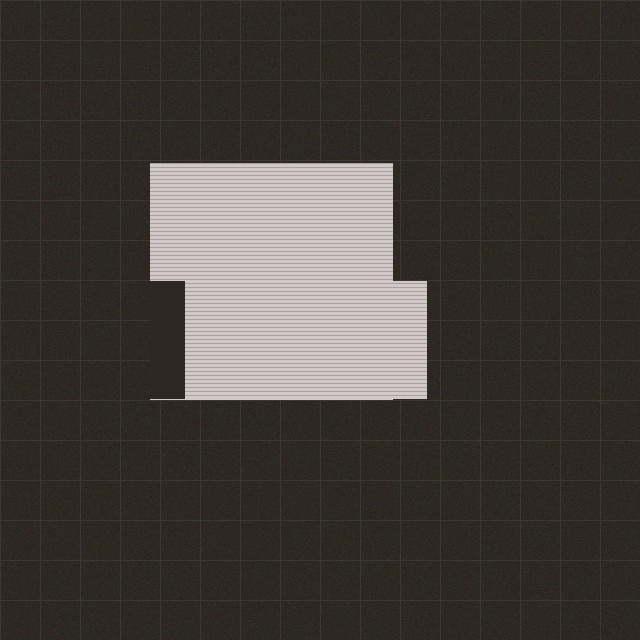layer_shift: (140, 261, 437, 301)
